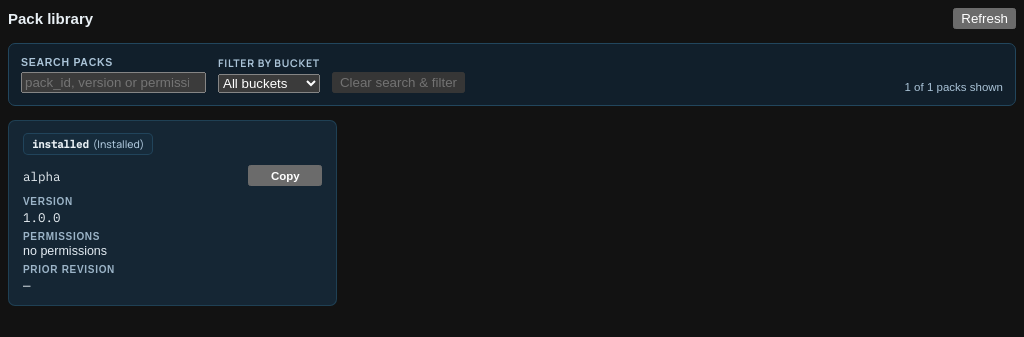
Test: PackLibrary Refresh › a failed refresh surfaces the new refusal code without clearing rows
The image size is (1024, 337).
Expected: the list item with test id "pack-library-row-alpha" is shown, [8, 120, 337, 306]
Click the button with test id "pack-library-refresh".
click(985, 18)  # box [953, 8, 1016, 29]
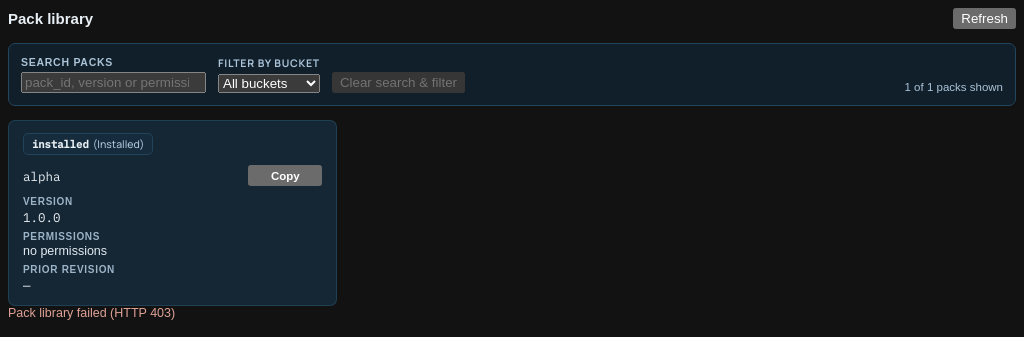
Expected: the list item with test id "pack-library-row-alpha" is shown, [8, 120, 337, 306]
Result: the message with test id "pack-library-error" shows "403" at [8, 306, 175, 320]
